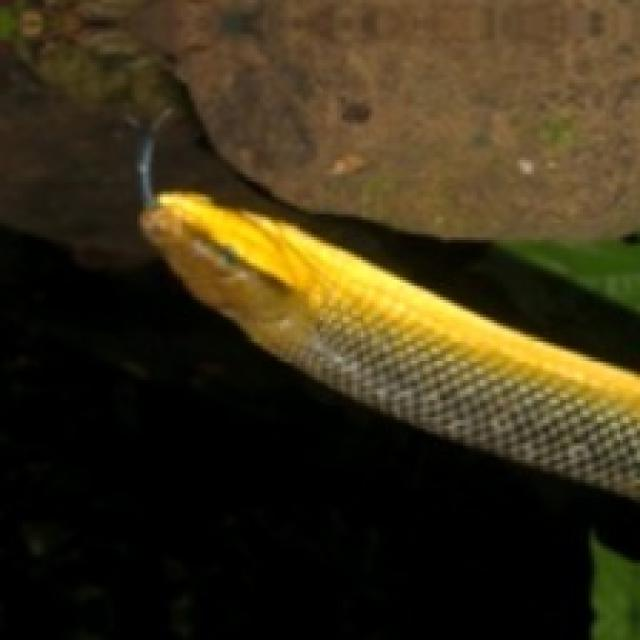red-tailed green ratsnake: (140, 191, 637, 500)
